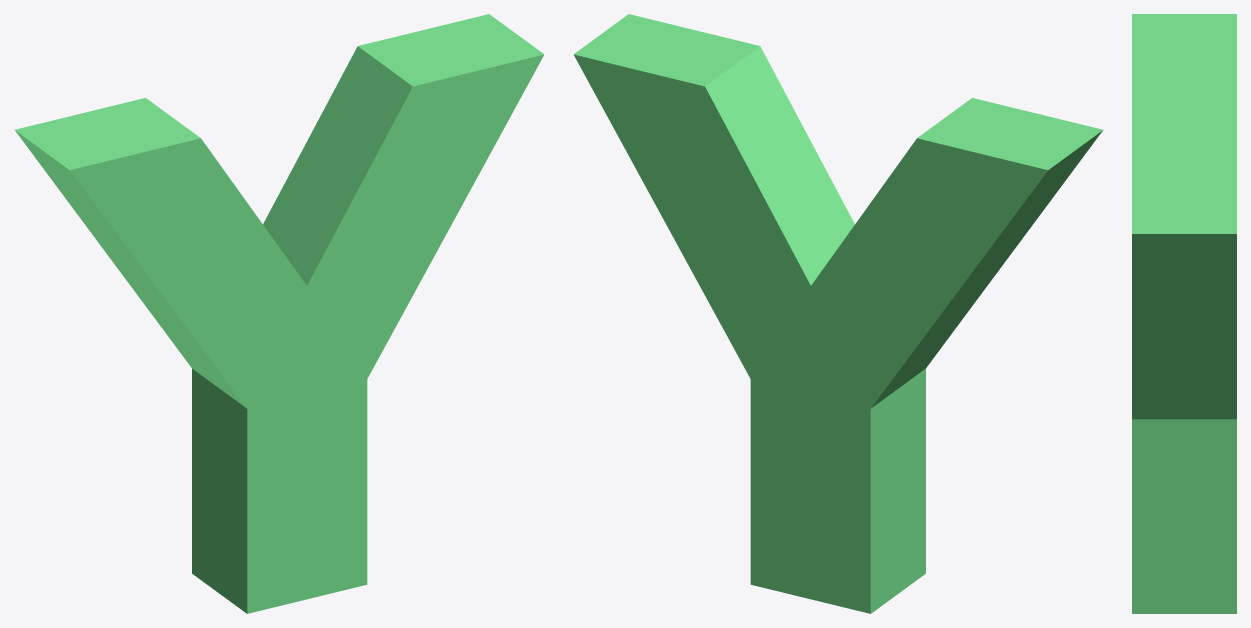
The model's file is huruf_besar_y.glb.
The picture shows the model from 3 angles, left to right: view 1: azimuth 30°, elevation 25°; view 2: azimuth 150°, elevation 25°; view 3: azimuth 270°, elevation 25°; orthographic projection. The views are drawn at different scales.
Visible parts, largest first — view 1: geometry_0; view 2: geometry_0; view 3: geometry_0.
Part boxes in pixels (box(x1,y1,x2,y2)): geometry_0: box(14, 14, 544, 613); geometry_0: box(573, 14, 1103, 613); geometry_0: box(1132, 14, 1236, 613).
Size of the model in its own units: 7.44 by 7.29 by 1.5.
